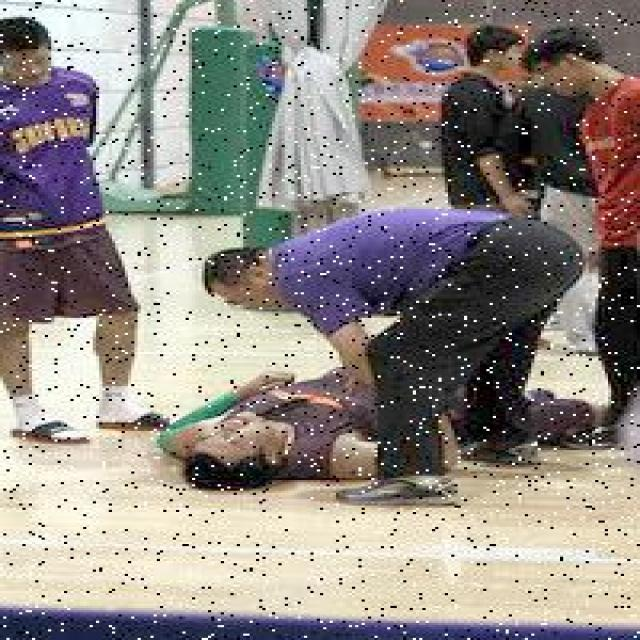fall: (173, 348, 496, 487)
